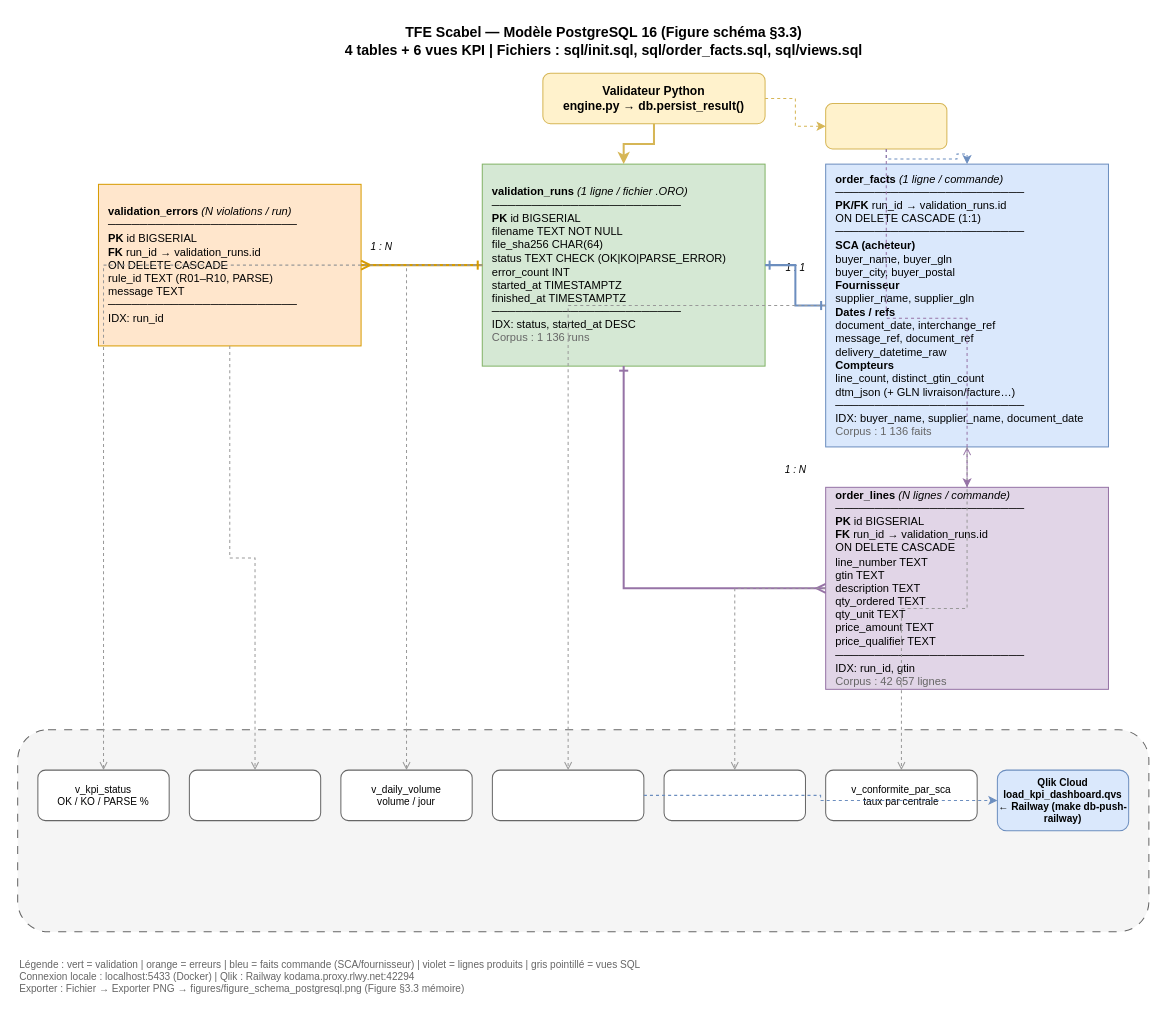
Image size: 1167x1019. Some labels were removed from this diagram. Each missing label, with the box of its shape:
extract.py (après validation): (825, 103, 947, 149)
v_errors_by_rule top R01–R10: (188, 769, 321, 821)
v_lines_enriched lignes + statut run: (663, 769, 805, 821)
v_runs_enriched run + SCA + fournisseur: (491, 769, 644, 821)
Vues SQL analytiques (sql/views.sql) — couche Qlik Sense / Railway: (17, 729, 1149, 932)
